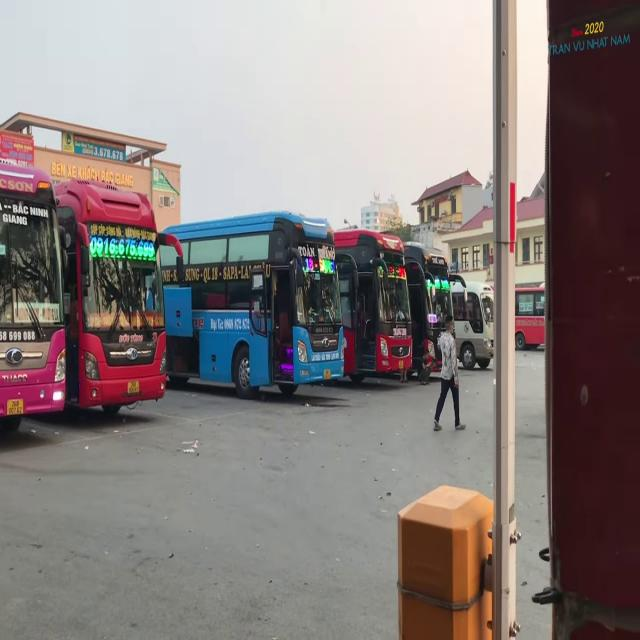bien_vang: (5, 398, 24, 416), (127, 378, 140, 396)
